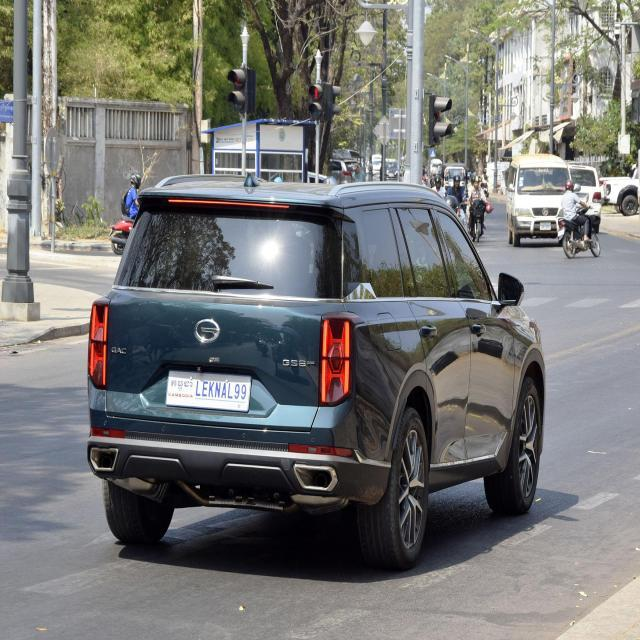Cambodia: (170, 378, 193, 392)
